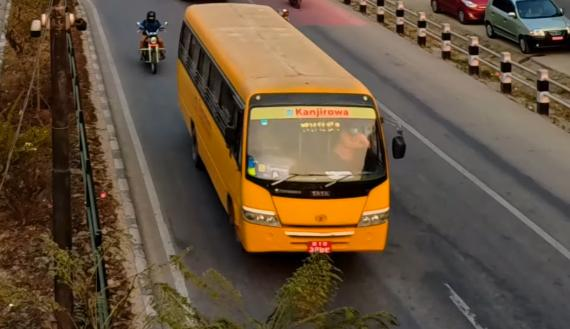bike: (135, 19, 171, 74)
car: (484, 0, 570, 50)
school_bus: (169, 2, 406, 263)
